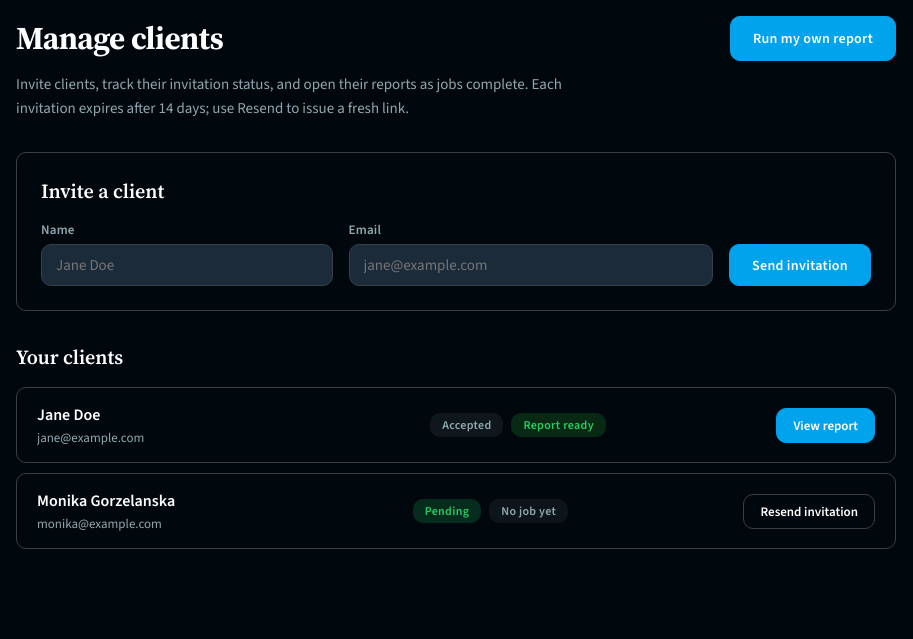
Test: ClientsPage resend confirmation (ORPHEUS-93) › Cancel dismisses the confirmation and restores the Resend button
Click the button "Resend invitation": {"x": 809, "y": 511} [744,494,875,528]
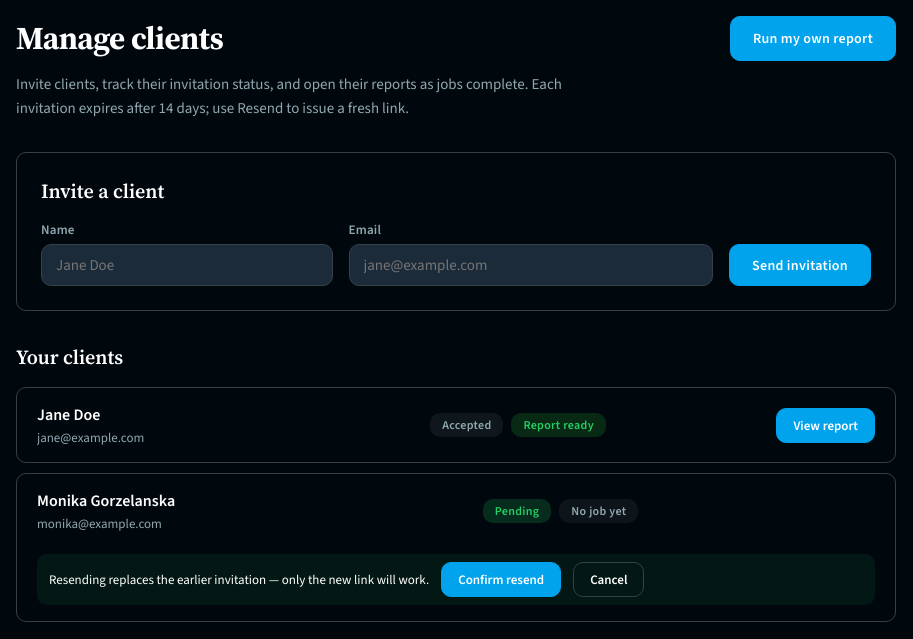
Click the button "Cancel": {"x": 609, "y": 580} [573,562,644,597]
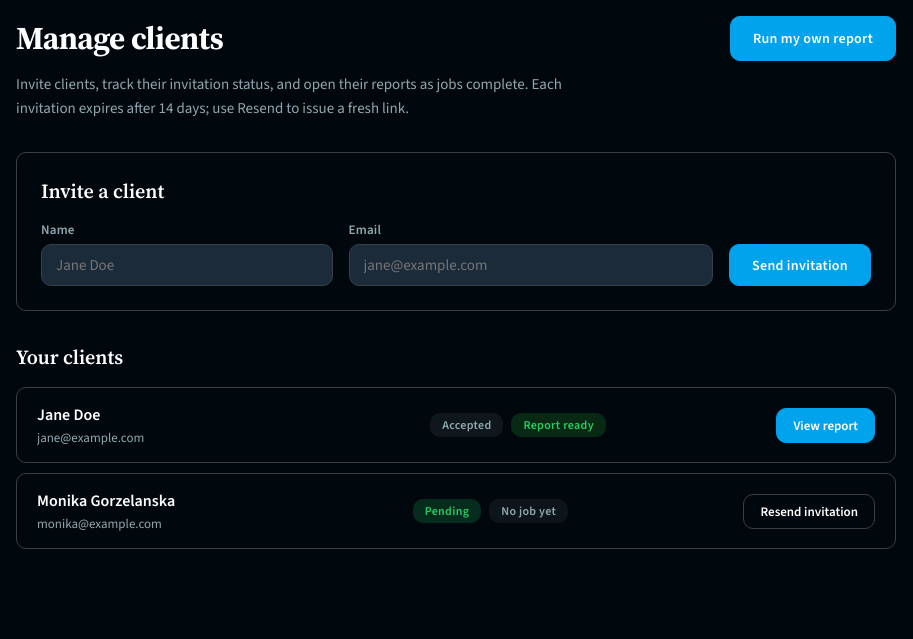
Now the text "replaces the earlier invitation" is gone
Now the button "Resend invitation" is shown, box [744,494,875,528]
